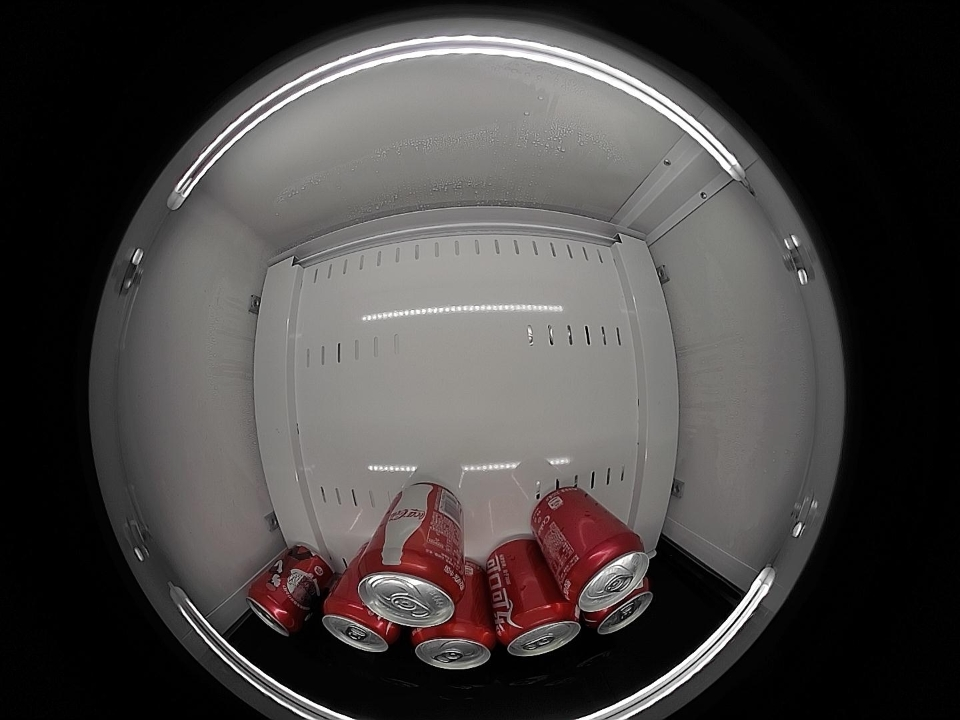kele: (358, 549, 463, 627), (562, 532, 651, 613), (497, 600, 581, 657), (322, 596, 399, 653), (412, 620, 495, 670), (587, 584, 654, 635), (248, 579, 305, 636)
